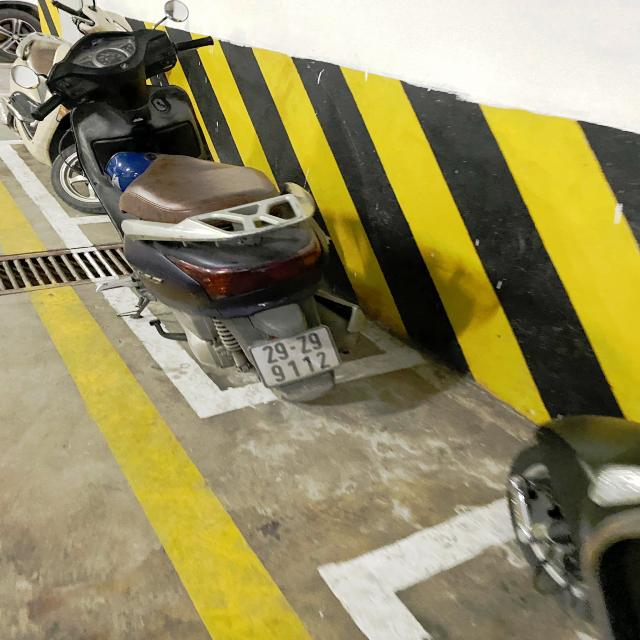license_plate: (246, 325, 347, 390)
